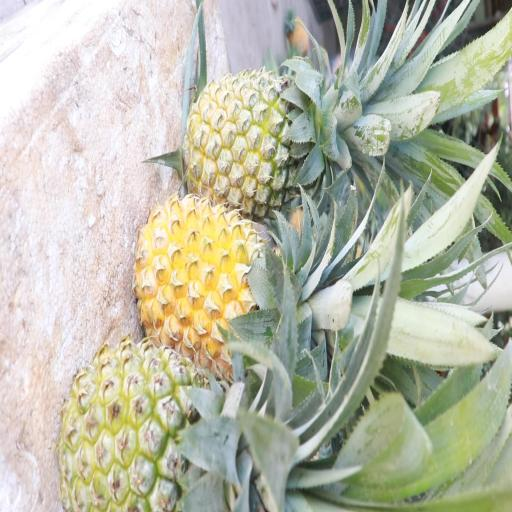------------------------------: (61, 344, 251, 512), (137, 192, 297, 360), (184, 66, 346, 212)
